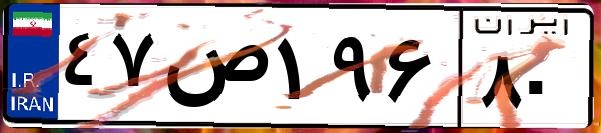0: (525, 38, 570, 115)
1: (270, 28, 330, 110)
4: (57, 26, 110, 100)
6: (385, 28, 445, 110)
7: (110, 28, 158, 98)
8: (475, 38, 525, 113)
9: (330, 28, 385, 110)
ص: (158, 20, 270, 120)
